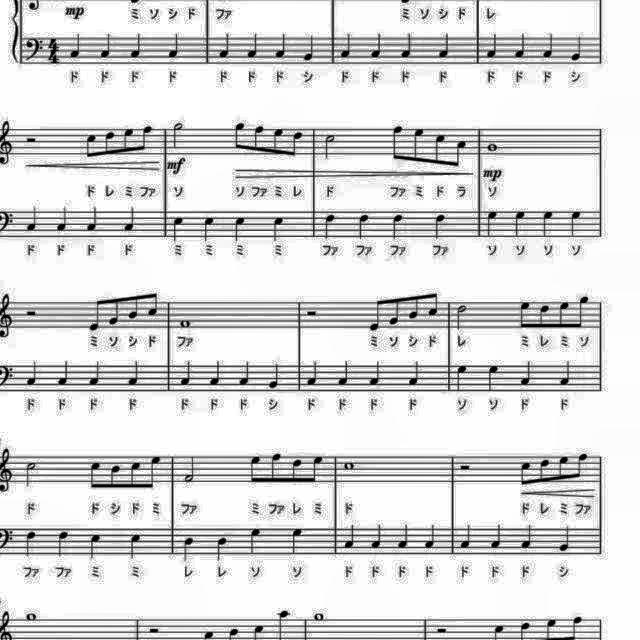Bass-clef: (24, 33, 46, 63)
Eighth-note: (386, 122, 404, 166), (85, 292, 104, 332), (430, 129, 448, 169), (145, 454, 163, 494), (86, 456, 105, 492), (367, 296, 385, 334), (409, 124, 426, 164), (384, 290, 402, 326), (246, 450, 264, 486), (82, 128, 101, 162), (574, 292, 590, 332), (449, 136, 467, 170), (268, 450, 284, 486), (137, 122, 155, 154), (270, 124, 286, 158), (128, 457, 144, 491), (573, 448, 589, 482), (556, 296, 572, 330), (517, 298, 533, 332), (232, 119, 248, 153), (106, 295, 122, 329), (424, 288, 440, 320), (126, 290, 142, 322), (102, 127, 118, 159), (536, 455, 552, 487), (144, 288, 160, 320), (250, 122, 266, 154), (288, 128, 304, 160), (309, 452, 325, 484), (518, 457, 534, 488), (556, 452, 572, 482), (288, 455, 304, 485), (108, 463, 124, 493), (122, 124, 136, 156), (408, 292, 422, 322), (537, 302, 551, 332)
Full-note: (312, 609, 328, 627), (23, 610, 41, 626), (176, 315, 194, 329), (484, 140, 501, 154), (342, 458, 358, 472)
Half-note: (23, 456, 41, 489), (181, 452, 199, 484), (454, 301, 471, 333), (170, 120, 186, 152), (322, 131, 338, 161)
Half-rest: (22, 132, 42, 148), (304, 308, 324, 324), (456, 458, 472, 474), (145, 624, 163, 638), (434, 624, 452, 638), (23, 306, 41, 320)
Quarter-note: (54, 528, 74, 560), (246, 524, 264, 556), (127, 530, 145, 562), (453, 362, 471, 394), (567, 206, 585, 238), (483, 206, 501, 238), (433, 212, 451, 244), (556, 522, 574, 554), (512, 206, 530, 238), (287, 524, 305, 556), (485, 361, 503, 393), (200, 214, 218, 246), (215, 29, 233, 60), (266, 361, 284, 392), (24, 357, 42, 388), (87, 532, 105, 562), (388, 211, 406, 241), (354, 211, 372, 241), (320, 212, 338, 242), (406, 359, 424, 389), (120, 203, 138, 233), (125, 359, 143, 389), (557, 359, 575, 389), (164, 29, 182, 59), (24, 205, 42, 235), (206, 359, 224, 389), (518, 521, 536, 551), (233, 357, 250, 388), (128, 30, 146, 59), (304, 359, 322, 388), (24, 527, 40, 559), (538, 206, 554, 238), (568, 32, 584, 64), (302, 33, 318, 65), (180, 535, 197, 565), (399, 30, 416, 60), (170, 215, 187, 245), (484, 30, 501, 60), (178, 359, 195, 389), (368, 359, 384, 389), (84, 205, 100, 235), (68, 30, 84, 60), (368, 29, 384, 59), (436, 29, 452, 59), (511, 29, 527, 59), (518, 359, 534, 389), (88, 359, 104, 389), (274, 29, 290, 59), (542, 29, 558, 59), (232, 215, 248, 245), (98, 30, 114, 60), (56, 359, 72, 389), (336, 359, 352, 389), (244, 30, 260, 60), (488, 521, 504, 551), (56, 204, 72, 234), (422, 521, 438, 551), (213, 534, 230, 562), (340, 30, 356, 59), (270, 216, 286, 244), (342, 522, 358, 550), (370, 522, 386, 550), (458, 522, 474, 550), (394, 522, 410, 550)
